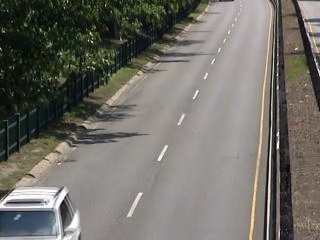car: (1, 180, 83, 240)
